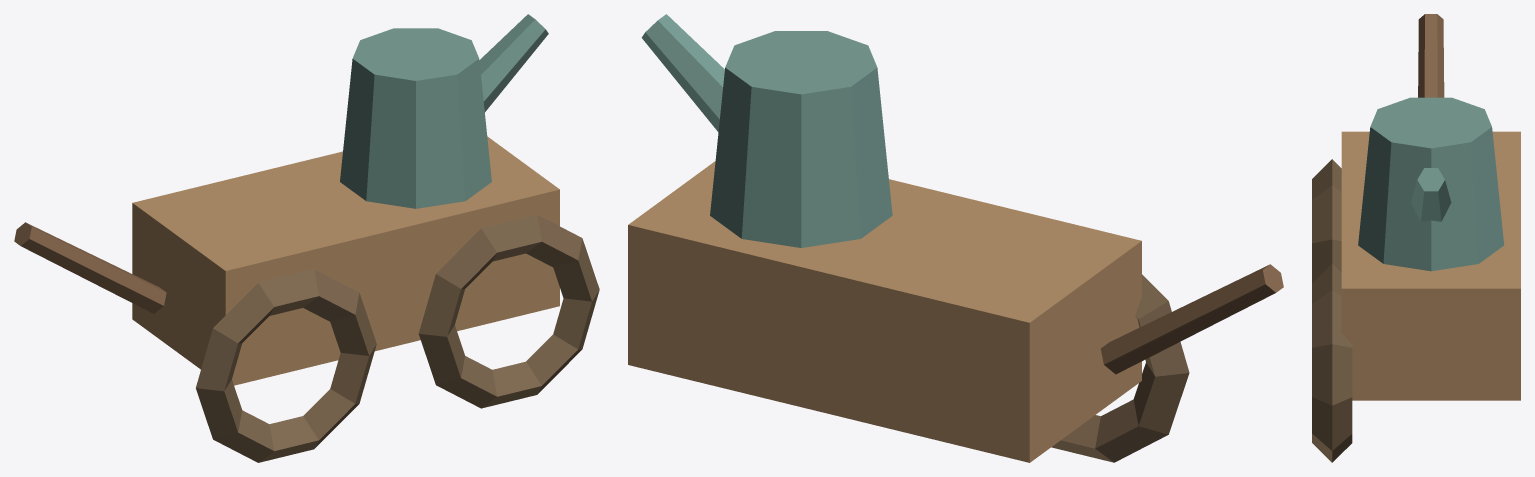
Rendered from map-exclusive-v3__village_12.glb.
3 renders of one model, left to right at view 1: azimuth 30°, elevation 25°; view 2: azimuth 150°, elevation 25°; view 3: azimuth 270°, elevation 25°, orthographic. The views are drawn at different scales.
Visible parts, largest first — view 1: village_12; view 2: village_12; view 3: village_12.
Part boxes in pixels (<box>): village_12: <box>14,14,599,462</box>; village_12: <box>628,14,1283,462</box>; village_12: <box>1312,14,1520,462</box>.
Size of the model in its own units: 1.91 by 1.13 by 0.675.
